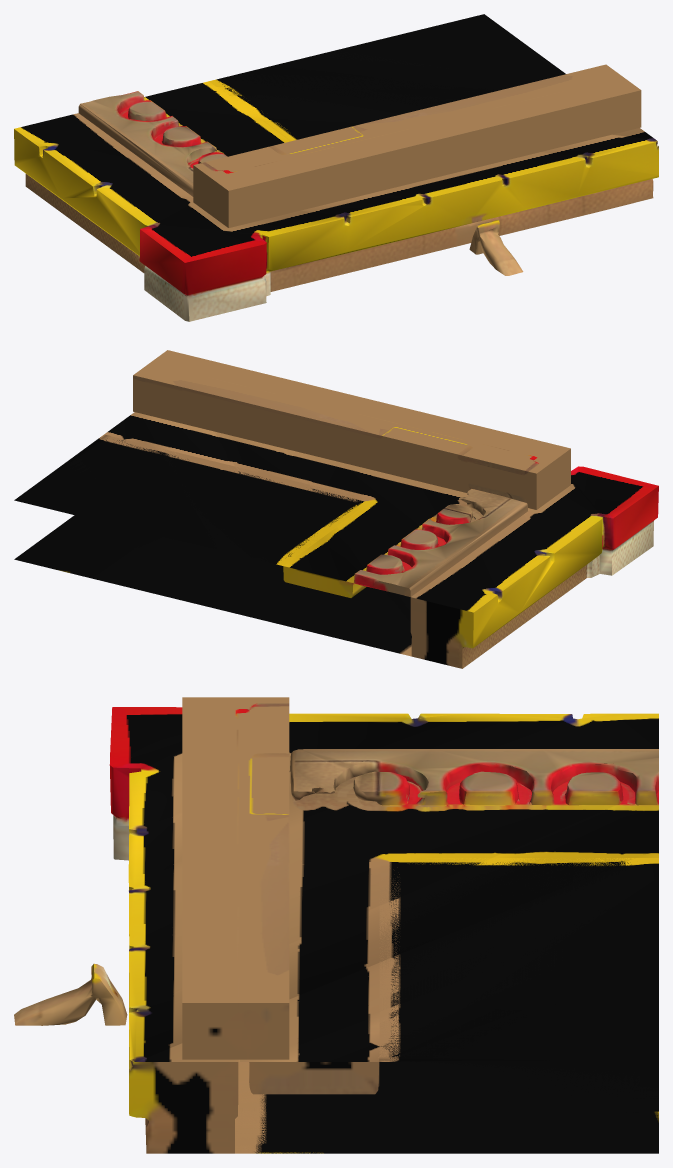
The model's file is 9-roof-front-left.fbx.
The picture shows the model from 3 angles, top to bottom: view 1: azimuth 30°, elevation 25°; view 2: azimuth 150°, elevation 25°; view 3: azimuth 270°, elevation 25°; orthographic projection. The views are drawn at different scales.
Parts seen in each view (by area): view 1: roof-front-left; view 2: roof-front-left; view 3: roof-front-left.
Part boxes in pixels (<box>): roof-front-left: <box>14,14,658,321</box>; roof-front-left: <box>14,350,658,668</box>; roof-front-left: <box>14,697,658,1153</box>.
Size of the model in its own units: 5116 by 1012 by 3925.
Materials: 1 (1 with a texture image).
